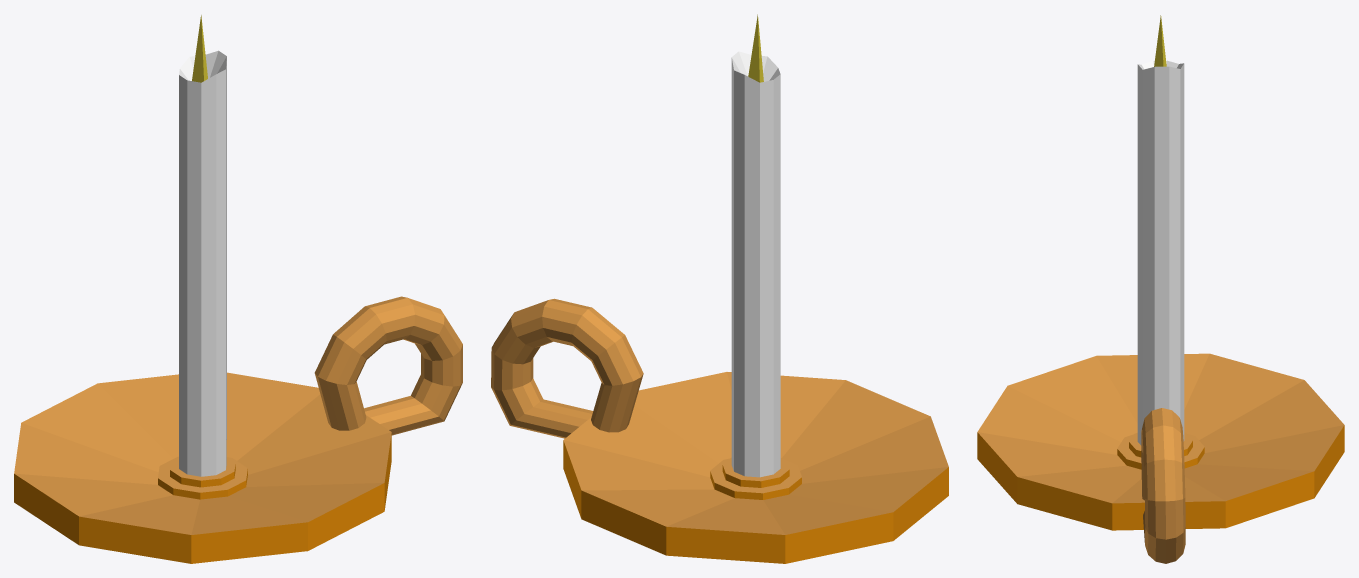
3 renders of one model, left to right at view 1: azimuth 30°, elevation 25°; view 2: azimuth 150°, elevation 25°; view 3: azimuth 270°, elevation 25°, orthographic. The views are drawn at different scales.
Visible parts, largest first — view 1: group419859083, group951423068, group504232277; view 2: group419859083, group951423068, group504232277; view 3: group419859083, group951423068.
Part boxes in pixels (<box>): group419859083: <box>14,50,391,563</box>; group951423068: <box>314,296,462,435</box>; group504232277: <box>192,15,207,82</box>; group419859083: <box>563,51,948,563</box>; group951423068: <box>491,298,643,438</box>; group504232277: <box>748,14,763,82</box>; group419859083: <box>977,60,1344,530</box>; group951423068: <box>1141,408,1185,563</box>.
Size of the model in its own units: 0.6505 by 0.6889 by 0.52.
